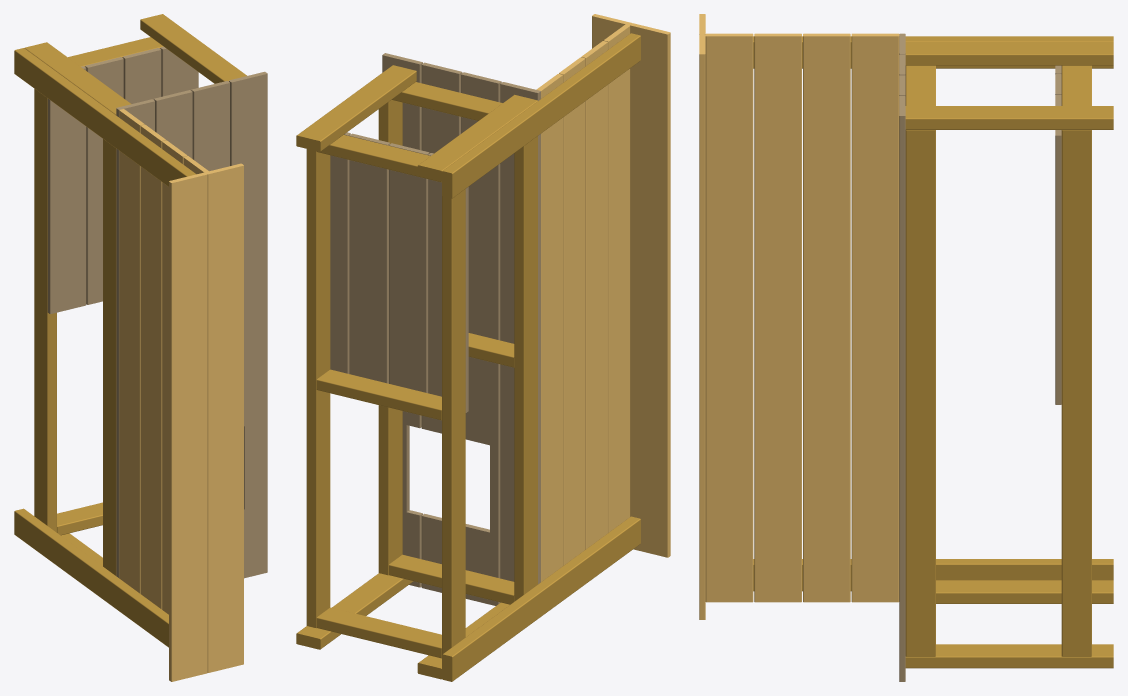
Rendered from mud-kitchen.gltf.
3 renders of one model, left to right at view 1: azimuth 30°, elevation 25°; view 2: azimuth 150°, elevation 25°; view 3: azimuth 270°, elevation 25°, orthographic. The views are drawn at different scales.
Visible parts, largest first — view 1: Part 29, Part 20, Part 21, Part 22, Part 25, Part 8, Part 3, Part 17, Part 16, Part 26, Part 23, Part 31 (+8 smaller); view 2: Part 29, Part 19, Part 7, Part 8, Part 3, Part 24, Part 22, Part 23, Part 21, Part 27, Part 26, Part 18 (+18 smaller); view 3: Part 21, Part 24, Part 22, Part 23, Cross Beam Supports, Part 7, Part 14, Part 15, Part 12, Part 29, Part 20, Part 13 (+5 smaller).
Boxes of the visible parts, <box> form: Part 29: <box>169,163,243,681</box>; Part 20: <box>229,71,267,578</box>; Part 21: <box>119,109,144,593</box>; Part 22: <box>140,124,165,609</box>; Part 25: <box>47,66,86,313</box>; Part 8: <box>34,89,56,532</box>; Part 3: <box>103,139,116,575</box>; Part 17: <box>14,48,195,186</box>; Part 16: <box>14,508,168,647</box>; Part 26: <box>85,57,123,304</box>; Part 23: <box>162,140,187,614</box>; Part 31: <box>191,81,229,171</box>; Part 29: <box>592,14,670,557</box>; Part 19: <box>461,72,501,605</box>; Part 7: <box>306,149,330,628</box>; Part 8: <box>442,189,465,654</box>; Part 3: <box>514,136,537,601</box>; Part 24: <box>604,24,630,532</box>; Part 22: <box>559,57,585,565</box>; Part 23: <box>581,41,607,549</box>; Part 21: <box>536,74,562,581</box>; Part 27: <box>349,133,389,383</box>; Part 26: <box>389,143,429,393</box>; Part 18: <box>500,82,540,583</box>; Part 21: <box>851,33,899,602</box>; Part 24: <box>705,33,753,602</box>; Part 22: <box>803,33,850,602</box>; Part 23: <box>754,33,801,602</box>; Cross Beam Supports: <box>905,130,935,656</box>; Part 7: <box>1061,130,1091,656</box>; Part 14: <box>905,106,1113,129</box>; Part 15: <box>905,42,1113,65</box>; Part 12: <box>905,644,1113,668</box>; Part 29: <box>699,14,705,619</box>; Part 20: <box>899,96,905,681</box>; Part 13: <box>936,580,1113,603</box>.
Size of the model in its own units: 0.708 by 1.83 by 1.21.
